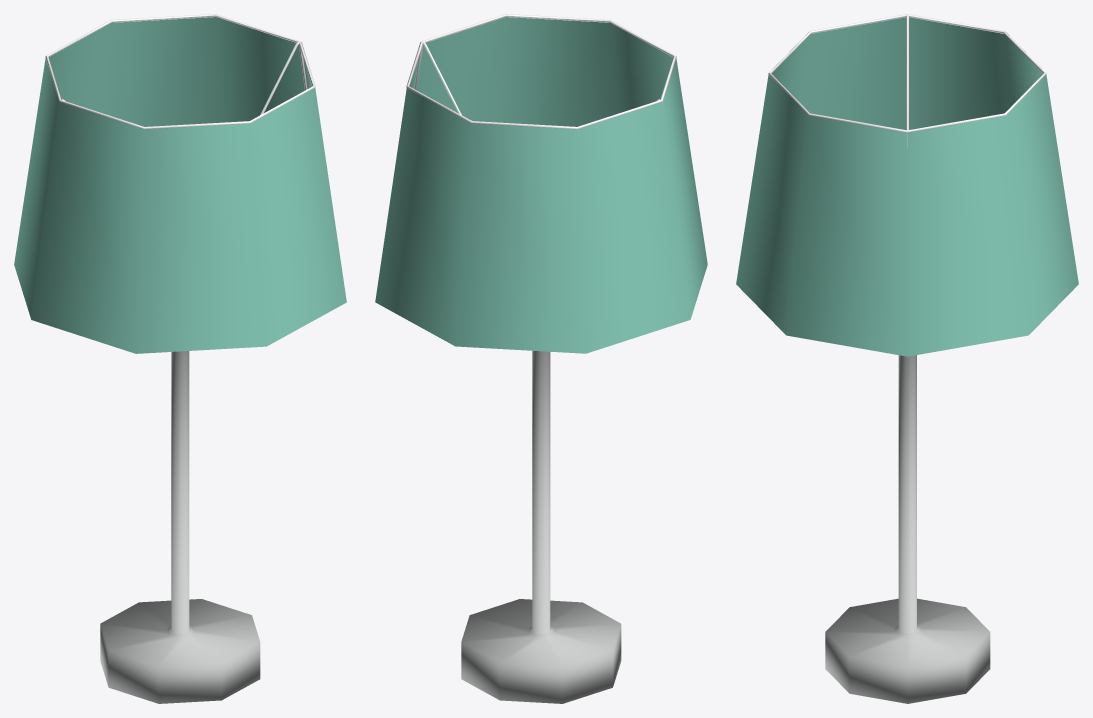
The model's file is Lamp.fbx.
3 renders of one model, left to right at view 1: azimuth 30°, elevation 25°; view 2: azimuth 150°, elevation 25°; view 3: azimuth 270°, elevation 25°, orthographic.
Parts seen in each view (by area): view 1: Hood Fabric, Lamp Base, Hood Ring Upper; view 2: Hood Fabric, Lamp Base, Hood Ring Upper; view 3: Hood Fabric, Lamp Base, Hood Ring Upper.
Part boxes in pixels (x1,y1,x2,y2): Hood Fabric: [14, 17, 346, 353]; Lamp Base: [100, 351, 260, 703]; Hood Ring Upper: [45, 14, 315, 129]; Hood Fabric: [375, 17, 707, 353]; Lamp Base: [461, 350, 621, 703]; Hood Ring Upper: [406, 14, 676, 129]; Hood Fabric: [736, 17, 1078, 356]; Lamp Base: [825, 355, 990, 703]; Hood Ring Upper: [768, 14, 1046, 132].
Size of the model in its own units: 208 by 400 by 208.
